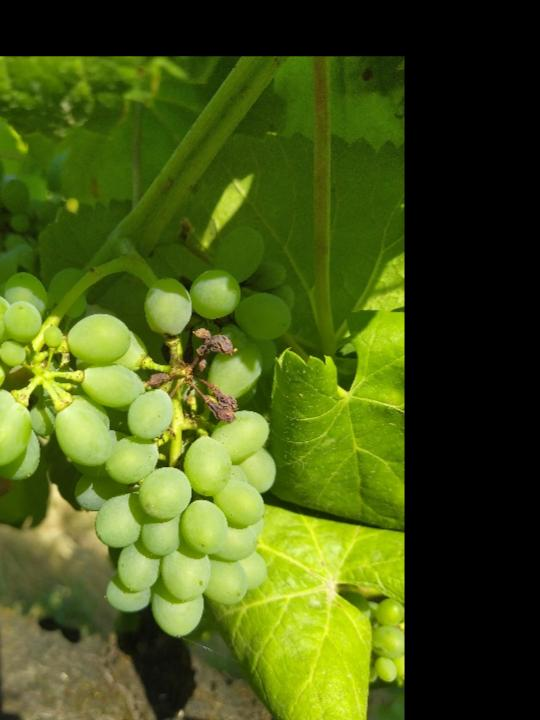grape: (0, 220, 303, 645)
